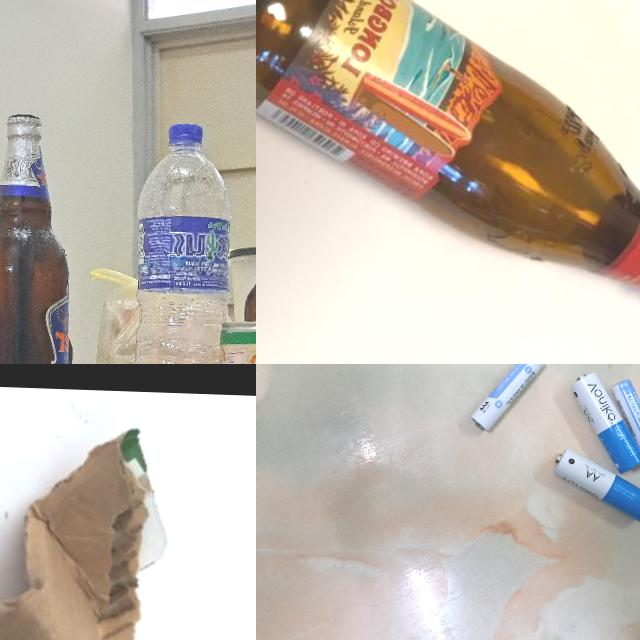bateria: (568, 370, 640, 474), (551, 445, 640, 524), (470, 364, 543, 433), (607, 377, 640, 468)
garrafa de vidro: (256, 0, 640, 318), (0, 111, 77, 364), (242, 195, 256, 322)
garrafa plástica: (129, 118, 234, 364)
papelão: (0, 412, 173, 640)
tampa plástica: (165, 124, 202, 151)
